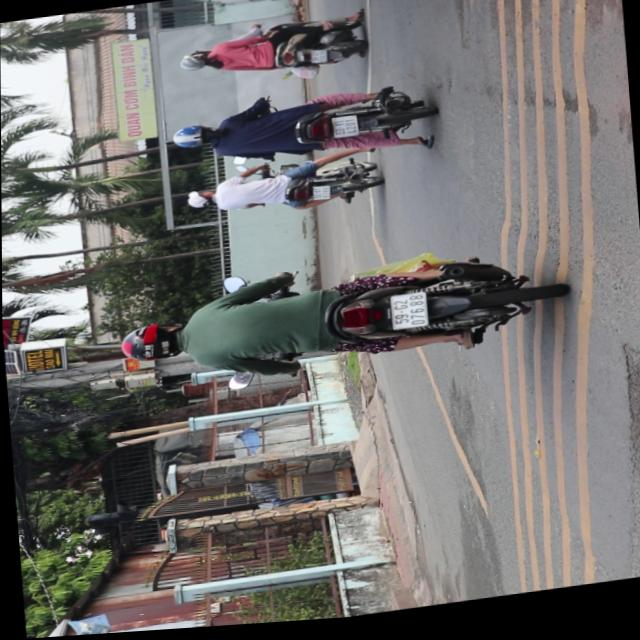helmet: (117, 319, 186, 368), (169, 124, 217, 154), (176, 51, 211, 75)
licenseplate: (116, 242, 550, 401), (168, 82, 437, 182), (182, 153, 381, 230), (176, 16, 368, 91)
motorcyclist: (184, 191, 214, 213)
nohelmet: (389, 296, 427, 334), (331, 119, 358, 142), (311, 188, 329, 204), (309, 53, 326, 67)
